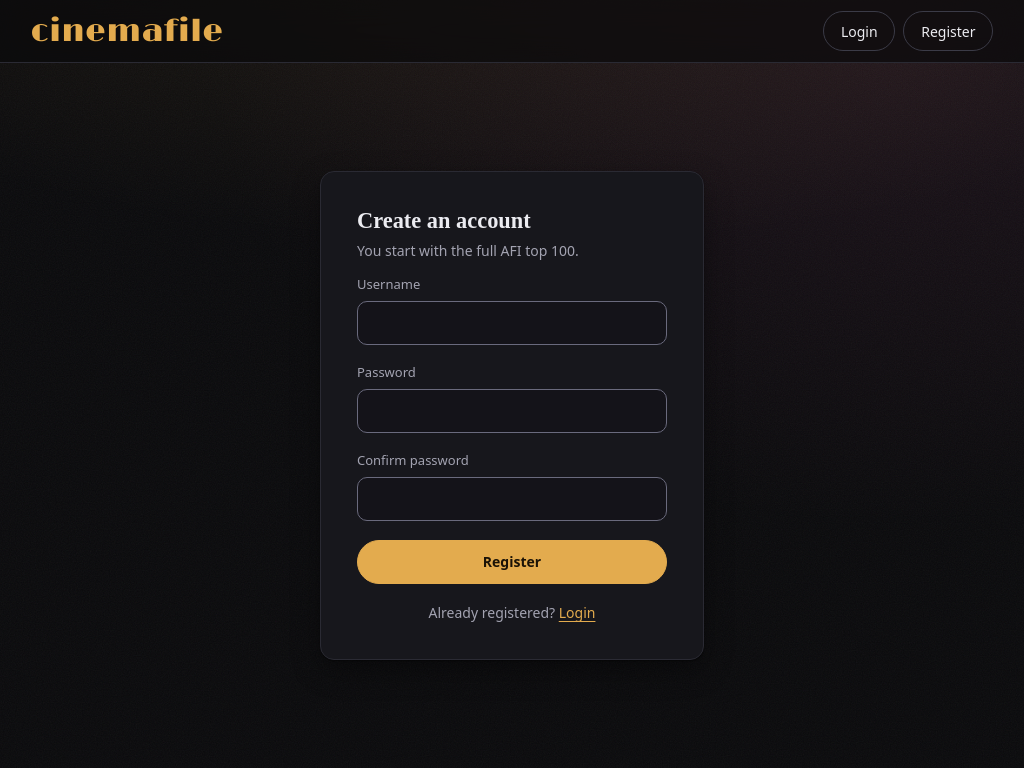
Test case: RegistrationForm › surfaces a username already taken
Step 1. Type "alice" into the field labelled "Username" → (512, 323), box [357,301,667,345]
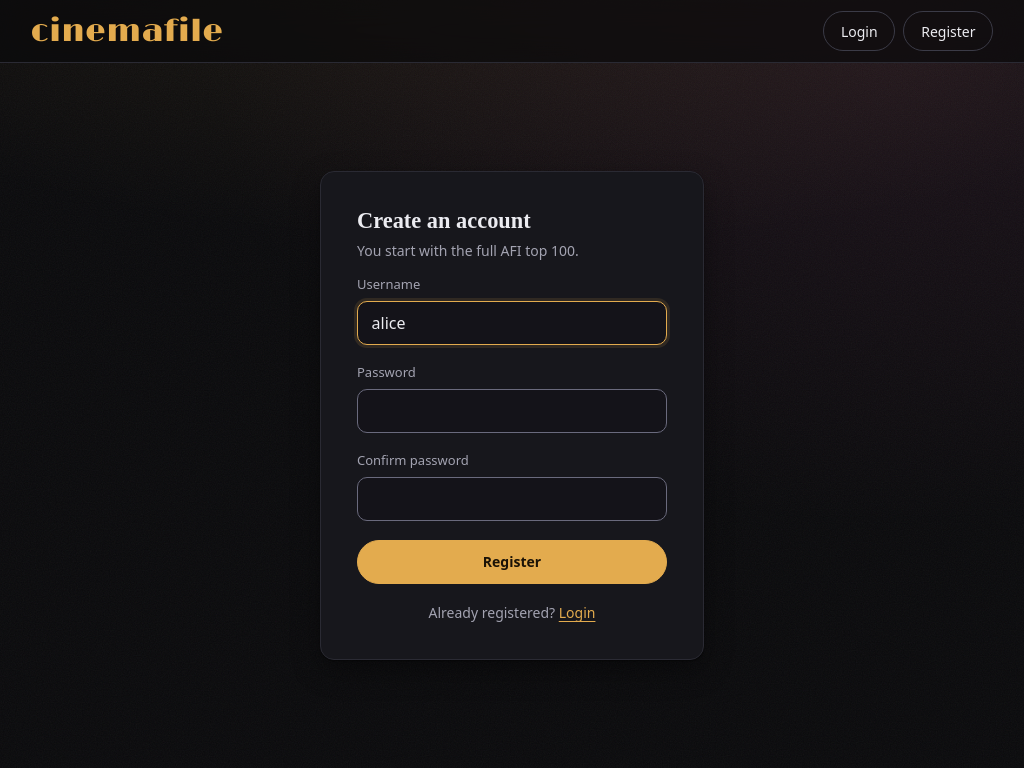
Step 2. Type "a good password" into the password field labelled "Password" → (512, 411), box [357,389,667,433]
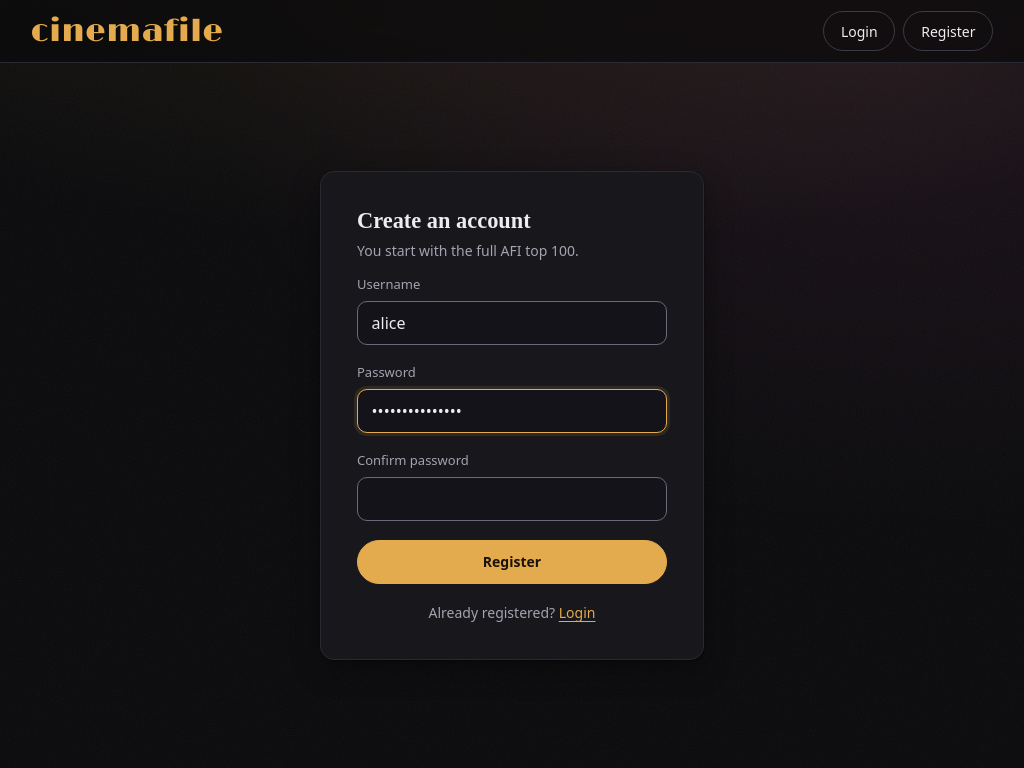
Step 3. Type "a good password" into the password field labelled "Confirm password" → (512, 499), box [357,477,667,521]
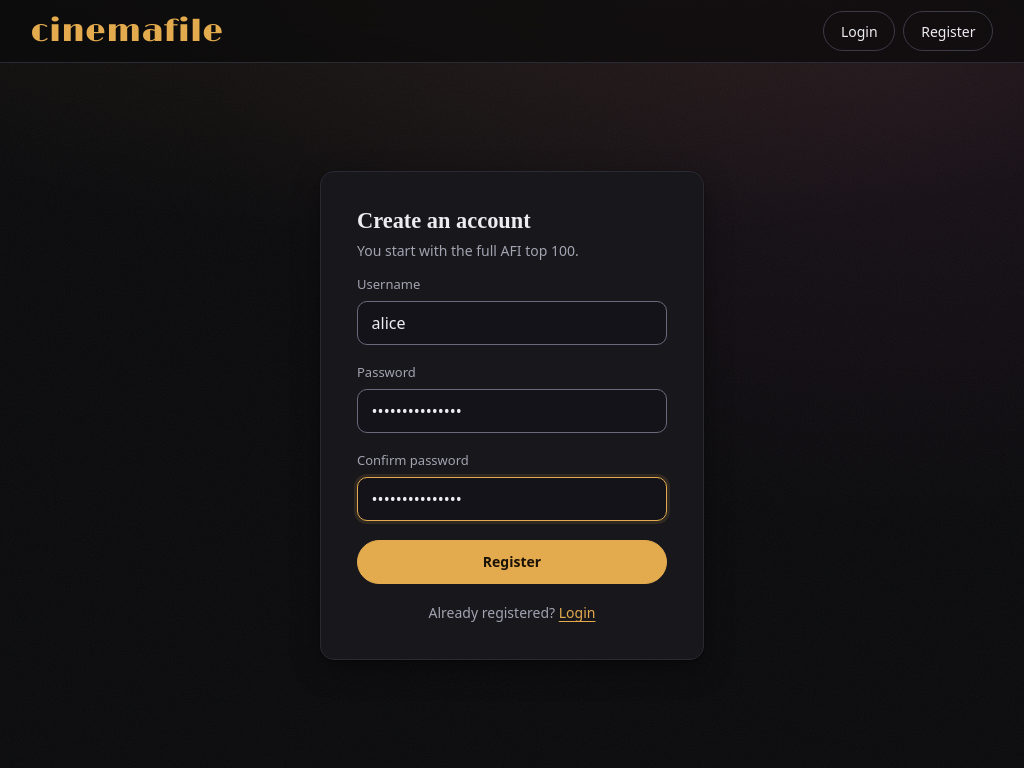
Step 4. Click the button "Register" → (512, 562), box [357,540,667,584]
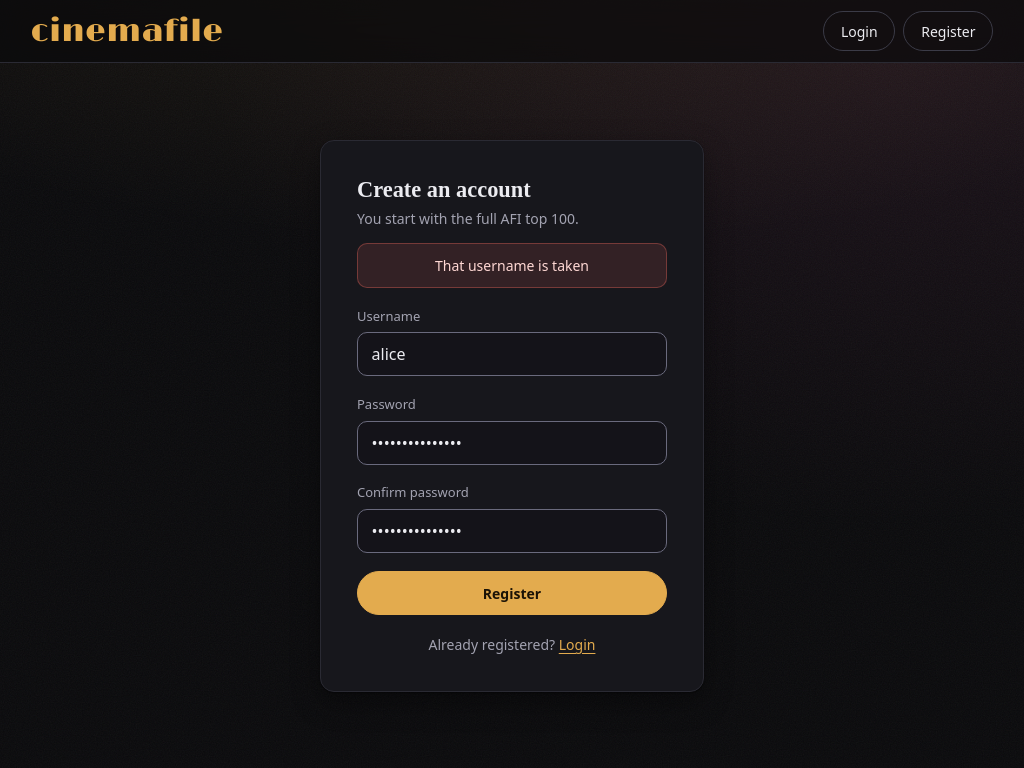
Result: the message reads "That username is taken" at [435,256,589,275]
